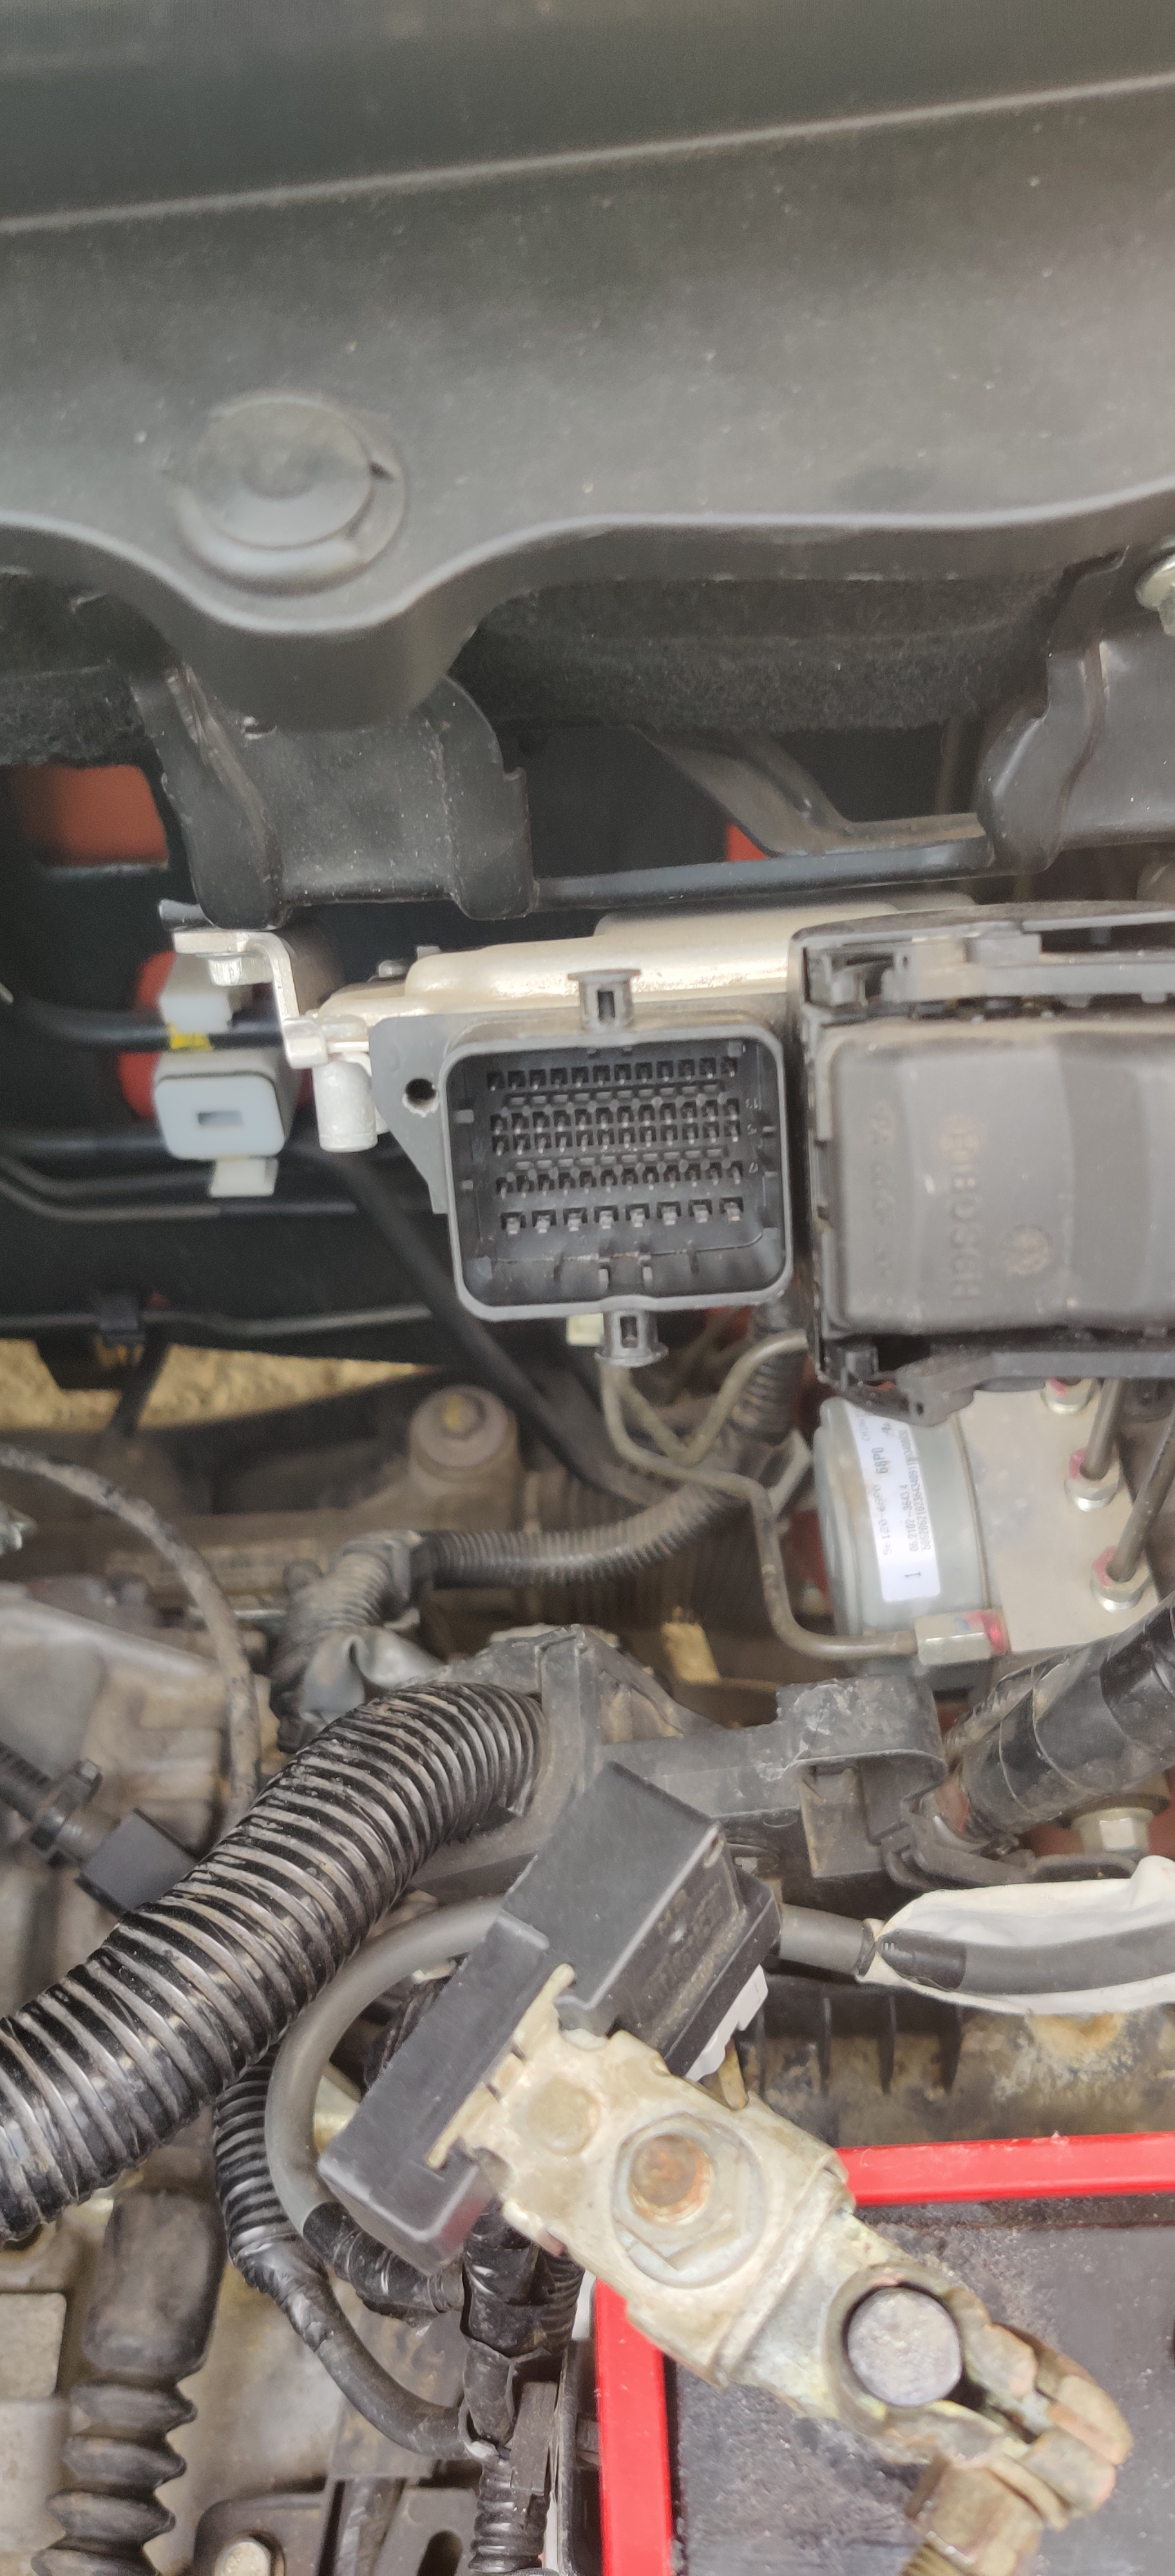connector: (404, 951, 902, 1459)
